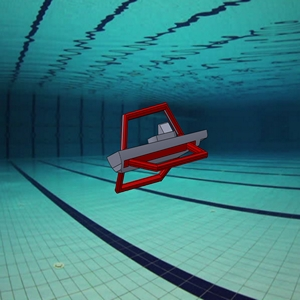submarine: (95, 99, 217, 208)
